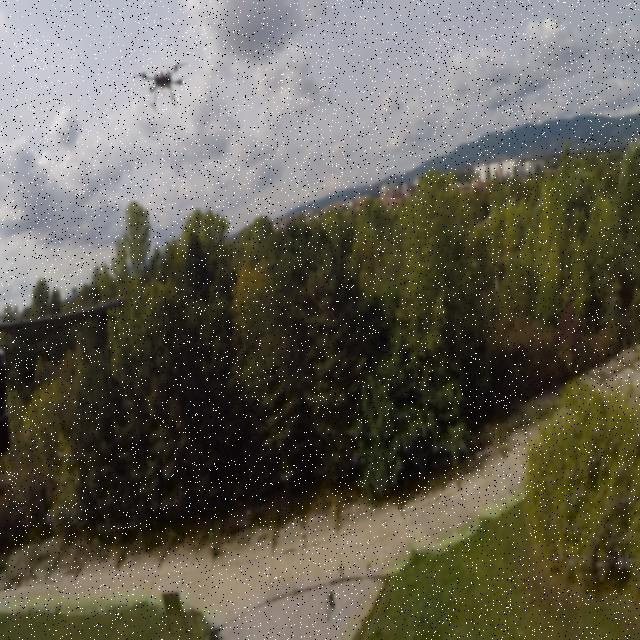UAV: (131, 52, 195, 112)
